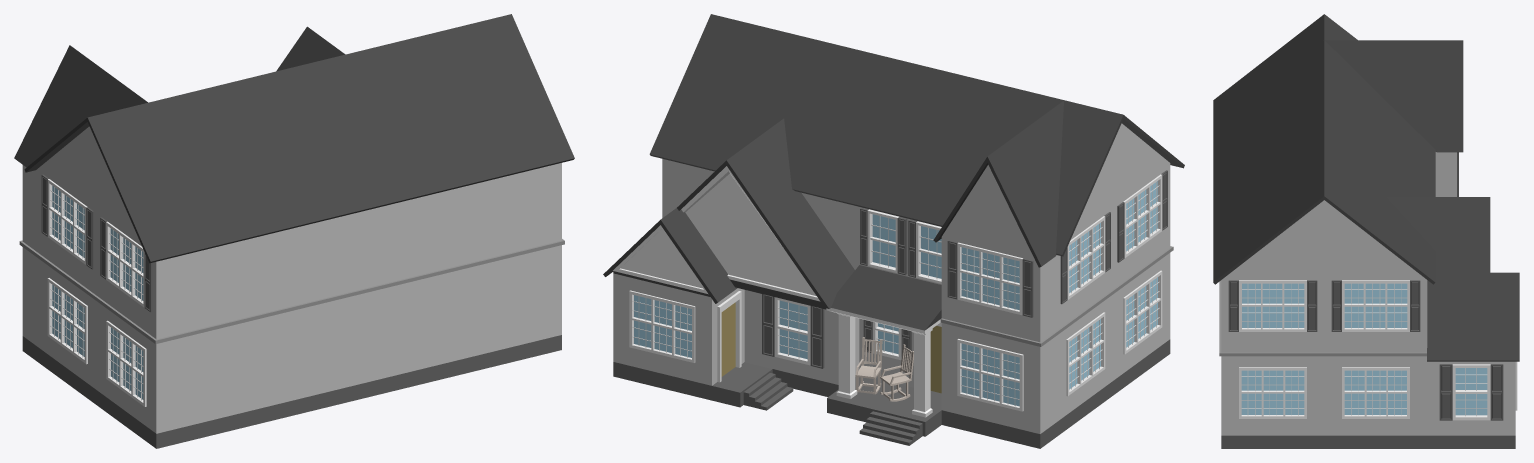
The model's file is house4.glb.
3 renders of one model, left to right at view 1: azimuth 30°, elevation 25°; view 2: azimuth 150°, elevation 25°; view 3: azimuth 270°, elevation 25°, orthographic. The views are drawn at different scales.
Visible parts, largest first — view 1: building.044; view 2: building.044; view 3: building.044.
Part boxes in pixels (left/top/right/bottom): building.044: left=14, top=14, right=574, bottom=448; building.044: left=603, top=14, right=1184, bottom=448; building.044: left=1213, top=14, right=1519, bottom=448.
Size of the model in its own units: 14.65 by 9.61 by 10.41.
Materials: 1 (1 with a texture image).
